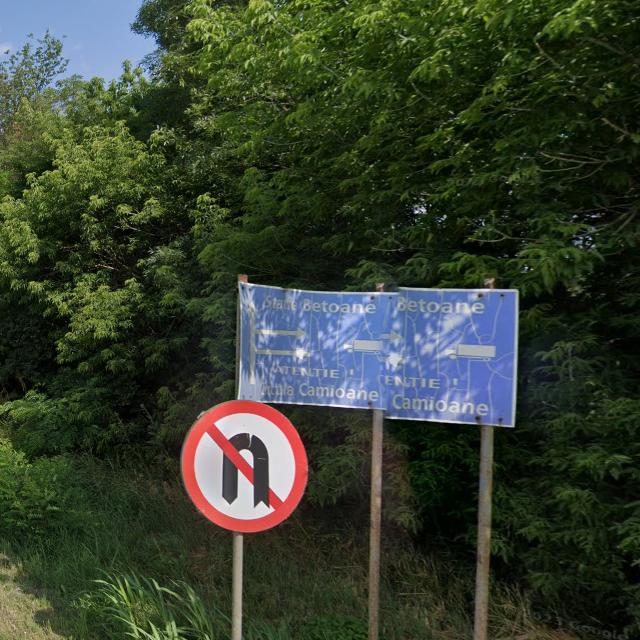forb_u_turn: (180, 401, 308, 534)
